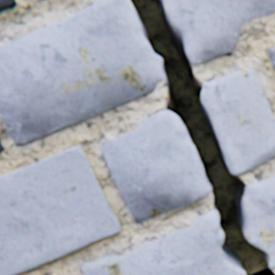brick: (0, 146, 122, 274), (0, 0, 17, 13), (268, 49, 274, 68), (0, 139, 5, 152)
broken_brick: (0, 0, 166, 146), (102, 112, 210, 223), (82, 211, 245, 274), (201, 69, 274, 176), (164, 0, 274, 66), (243, 177, 274, 268)
crack: (130, 0, 274, 274)
